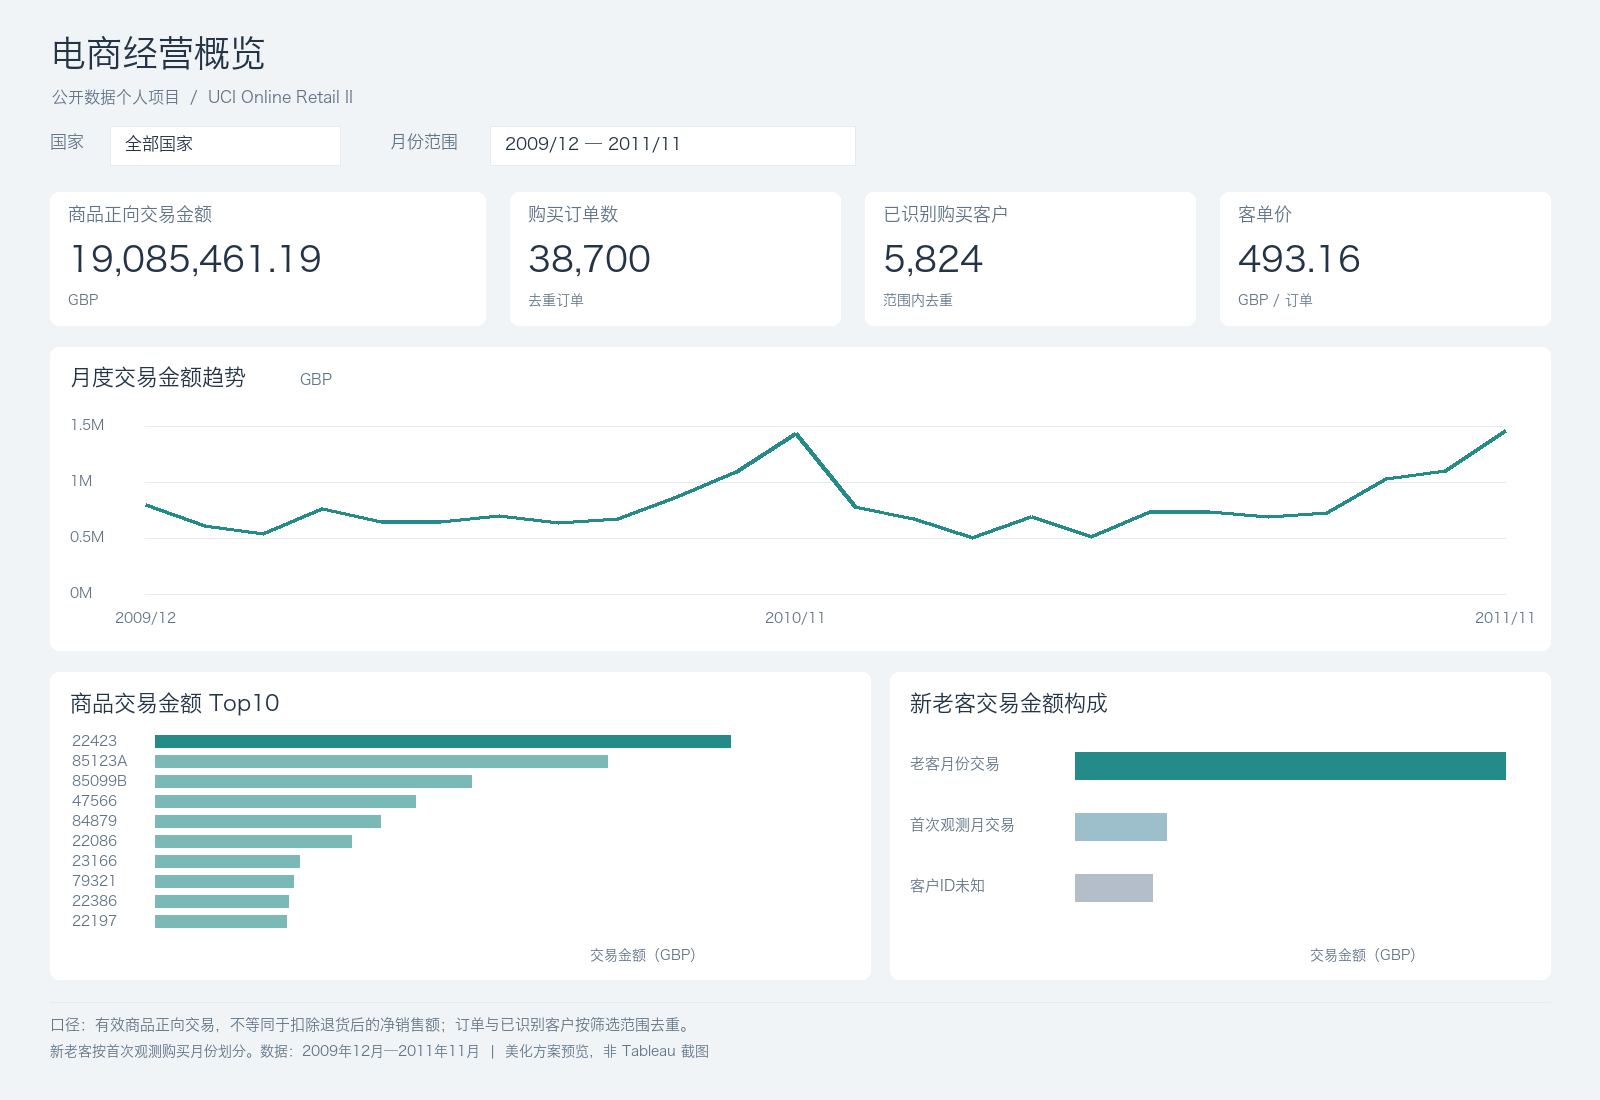

Layout of this report page (visuals, bound fields, positions):
{"tool":"tableau","page":{"name":"电商经营概览","canvas":[1200,800],"ordinal":0},"visuals":[{"type":"title","box":[8,8,1184,70]},{"type":"filter","title":"经营概览－商品排名","param":"[federated.157g0j00ozi3fg13ckk121qpsyf8].[none:Country:nk]","box":[8,78,430,63]},{"type":"filter","title":"经营概览－月度趋势","param":"[federated.157g0j00ozi3fg13ckk121qpsyf8].[none:Month:qk]","box":[438,78,754,63]},{"type":"worksheet","title":"经营概览－金额","mark":"Text","box":[8,141,296,82]},{"type":"worksheet","title":"经营概览－订单数","mark":"Automatic","box":[304,141,296,82]},{"type":"worksheet","title":"经营概览－客户数","mark":"Automatic","box":[600,141,296,82]},{"type":"worksheet","title":"经营概览－客单价","mark":"Automatic","box":[896,141,296,82]},{"type":"worksheet","title":"经营概览－月度趋势","mark":"Bar","rows":["LineAmount"],"cols":["Month"],"box":[8,222.7,1184,222.3]},{"type":"worksheet","title":"经营概览－商品排名","mark":"Automatic","rows":["StockCode","Calculation_2552719231754242"],"cols":["LineAmount"],"box":[8,445,608,306]},{"type":"worksheet","title":"经营概览－新老客构成","mark":"Bar","rows":["CustomerType"],"cols":["LineAmount"],"box":[616,445,576,306]},{"type":"text","box":[8,751,1184,41]}]}

Visuals, with their boxes on the page's 1200x800 design canvas (x1, y1, x2, y2). These are canvas units, not pixel positions in the 1600x1100 screenshot, which may show the page scaled, cropped or inside an application window:
title: Rect(8, 8, 1192, 78)
"经营概览－商品排名" filter: Rect(8, 78, 438, 141)
"经营概览－月度趋势" filter: Rect(438, 78, 1192, 141)
"经营概览－金额" worksheet (Text marks): Rect(8, 141, 304, 223)
"经营概览－订单数" worksheet: Rect(304, 141, 600, 223)
"经营概览－客户数" worksheet: Rect(600, 141, 896, 223)
"经营概览－客单价" worksheet: Rect(896, 141, 1192, 223)
"经营概览－月度趋势" worksheet (Bar marks): Rect(8, 223, 1192, 445)
"经营概览－商品排名" worksheet: Rect(8, 445, 616, 751)
"经营概览－新老客构成" worksheet (Bar marks): Rect(616, 445, 1192, 751)
text: Rect(8, 751, 1192, 792)
